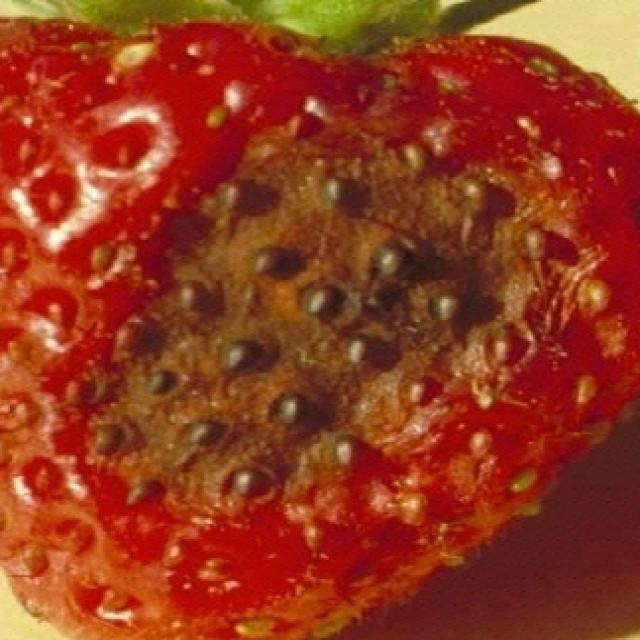Anthracnose Fruit Rot: (41, 69, 622, 527)
